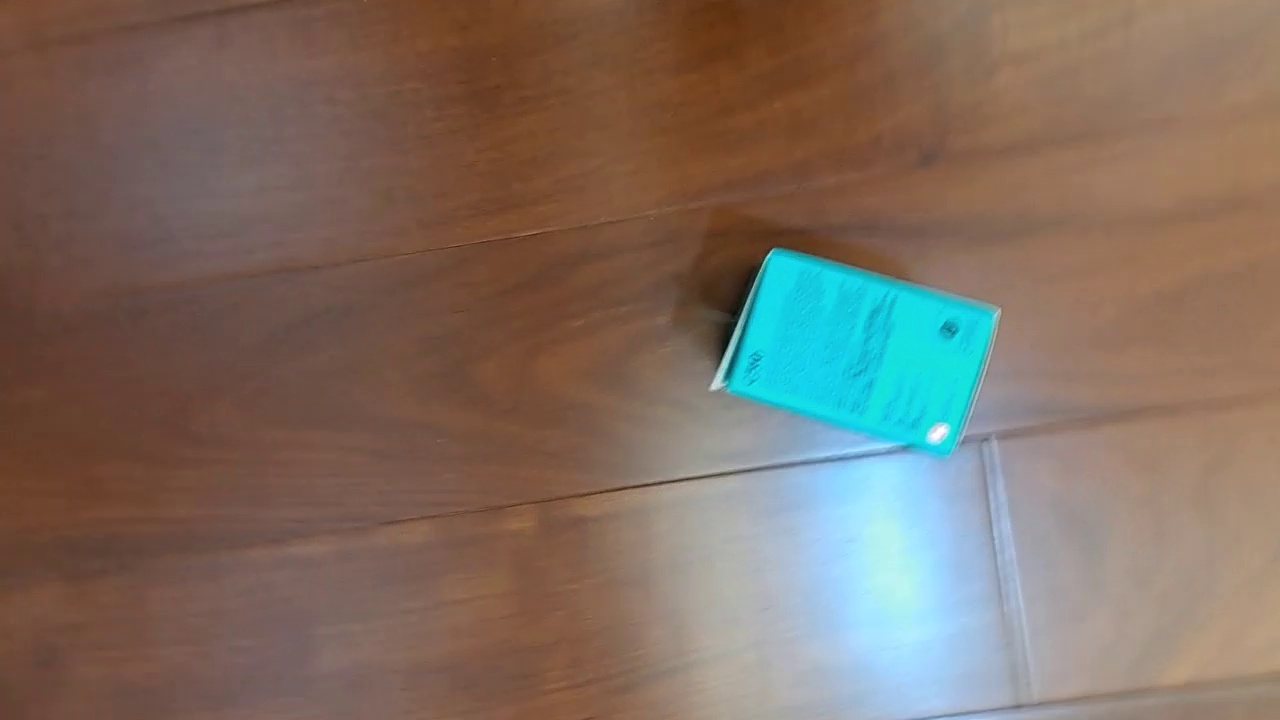webcam: (707, 245, 1002, 459)
